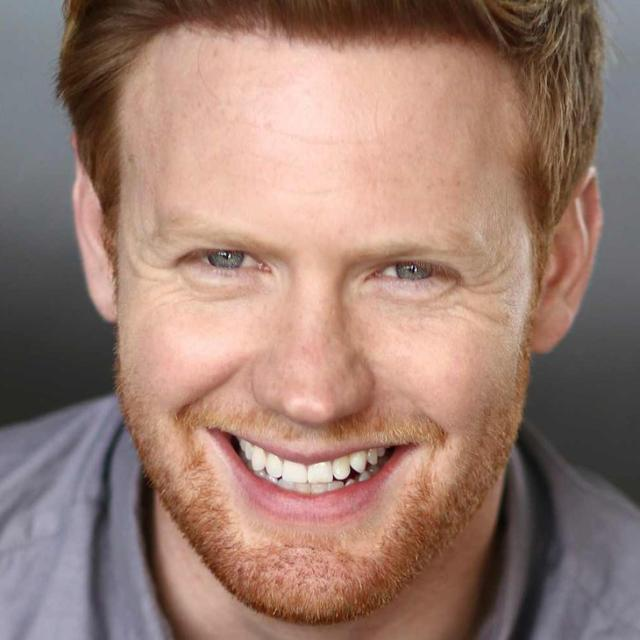Normal: (117, 30, 535, 619)
